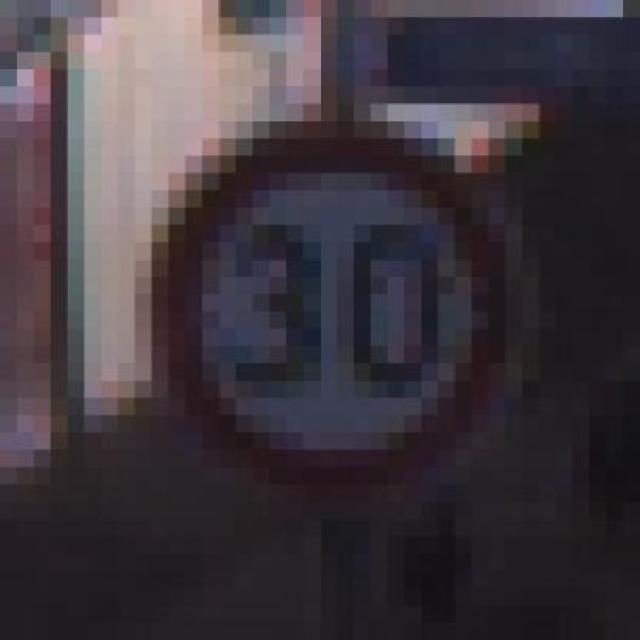Speed Limit 30 KMPh: (118, 121, 556, 519)
